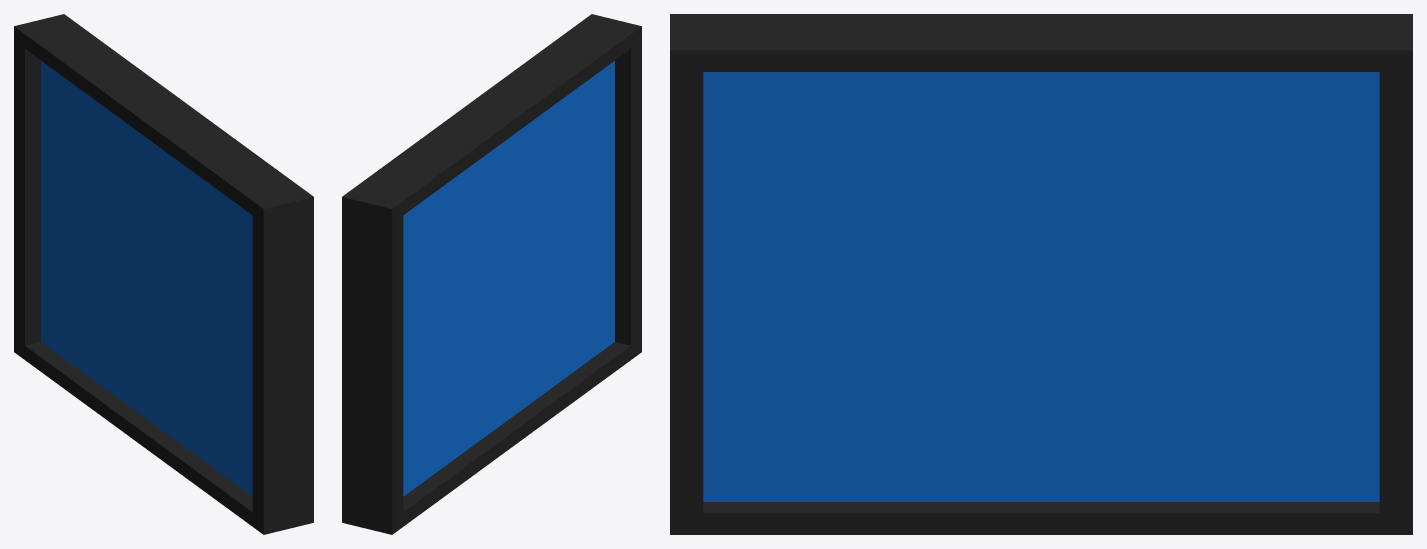
Rendered from advertbanner_07.fbx.
3 views of the same model, side by side, from view 1: azimuth 30°, elevation 25°; view 2: azimuth 150°, elevation 25°; view 3: azimuth 270°, elevation 25° (orthographic). The views are drawn at different scales.
Visible parts, largest first — view 1: advertbanner_07; view 2: advertbanner_07; view 3: advertbanner_07.
Boxes of the visible parts, left/top/right/bottom form: advertbanner_07: left=14, top=14, right=313, bottom=534; advertbanner_07: left=342, top=14, right=641, bottom=534; advertbanner_07: left=670, top=14, right=1412, bottom=534.
Bounding box in the file's own units: 0.6369 × 3.95 × 5.49.
